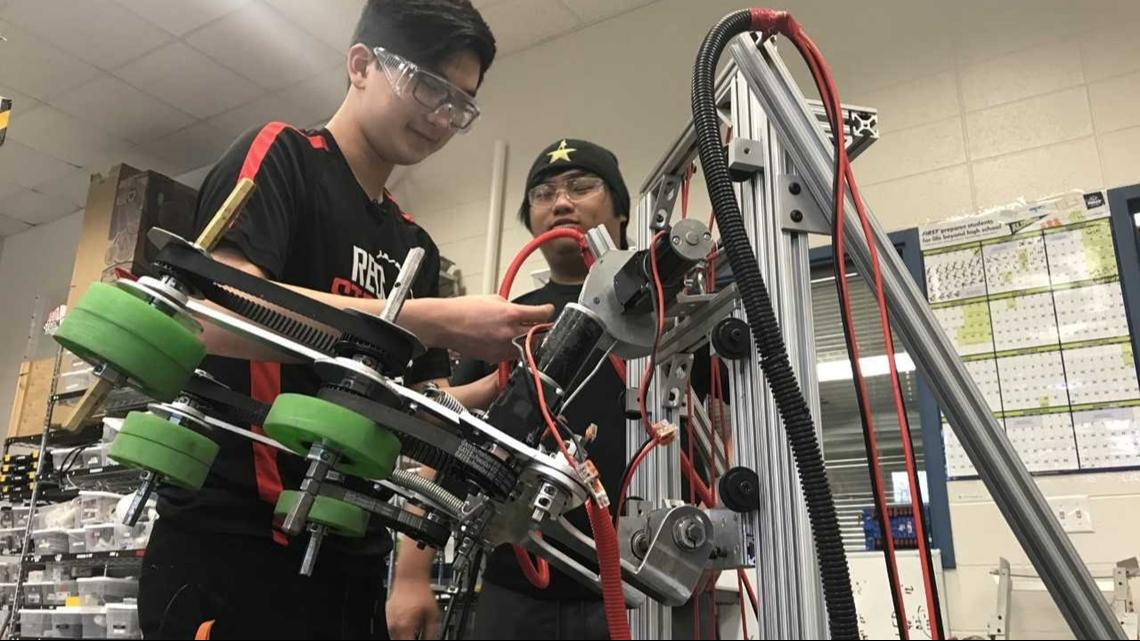robot: (53, 3, 1136, 641)
